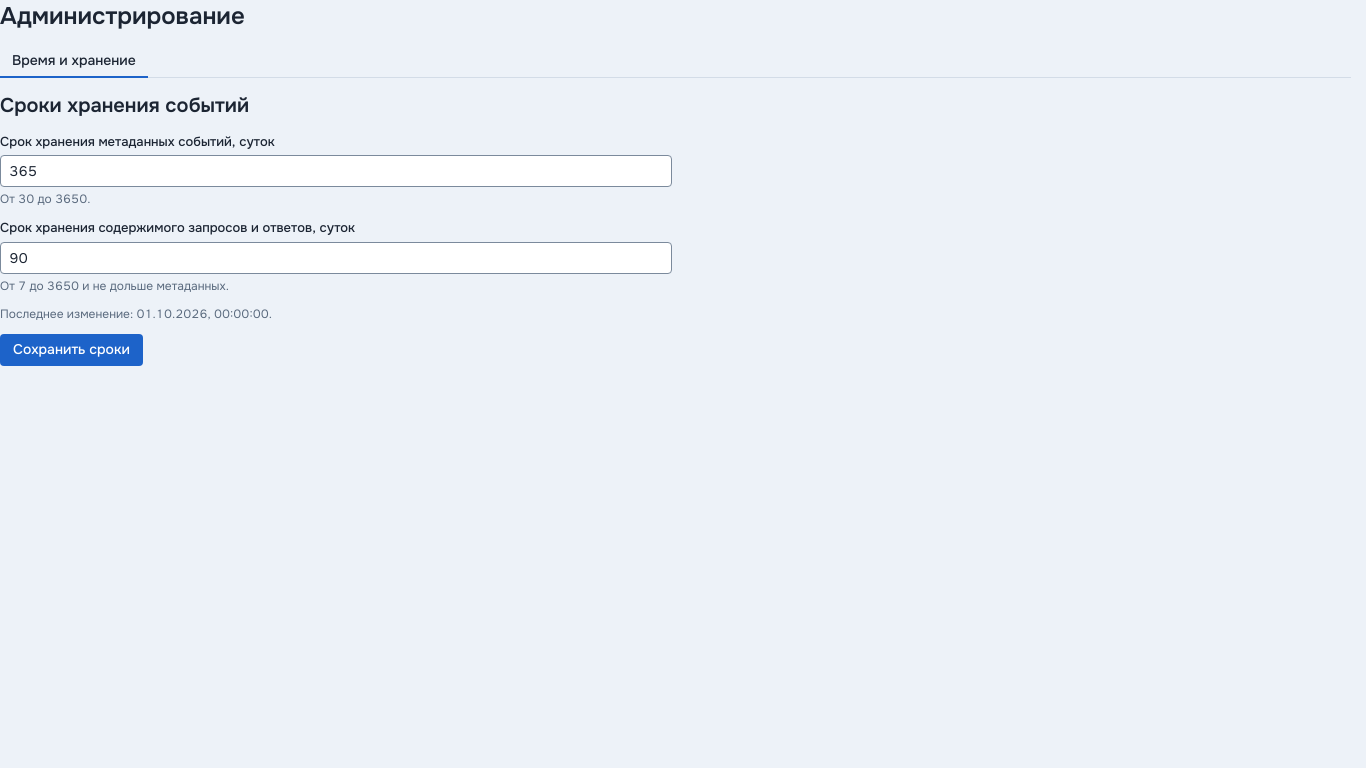
Test: сроки хранения › сокращение срока требует пароль, отказ сервера остаётся в диалоге (В13)
Replace the text in the field labelled "Срок хранения содержимого запросов и ответов, суток" with "30" at coordinates (336, 258), box left=0, top=242, right=672, bottom=274
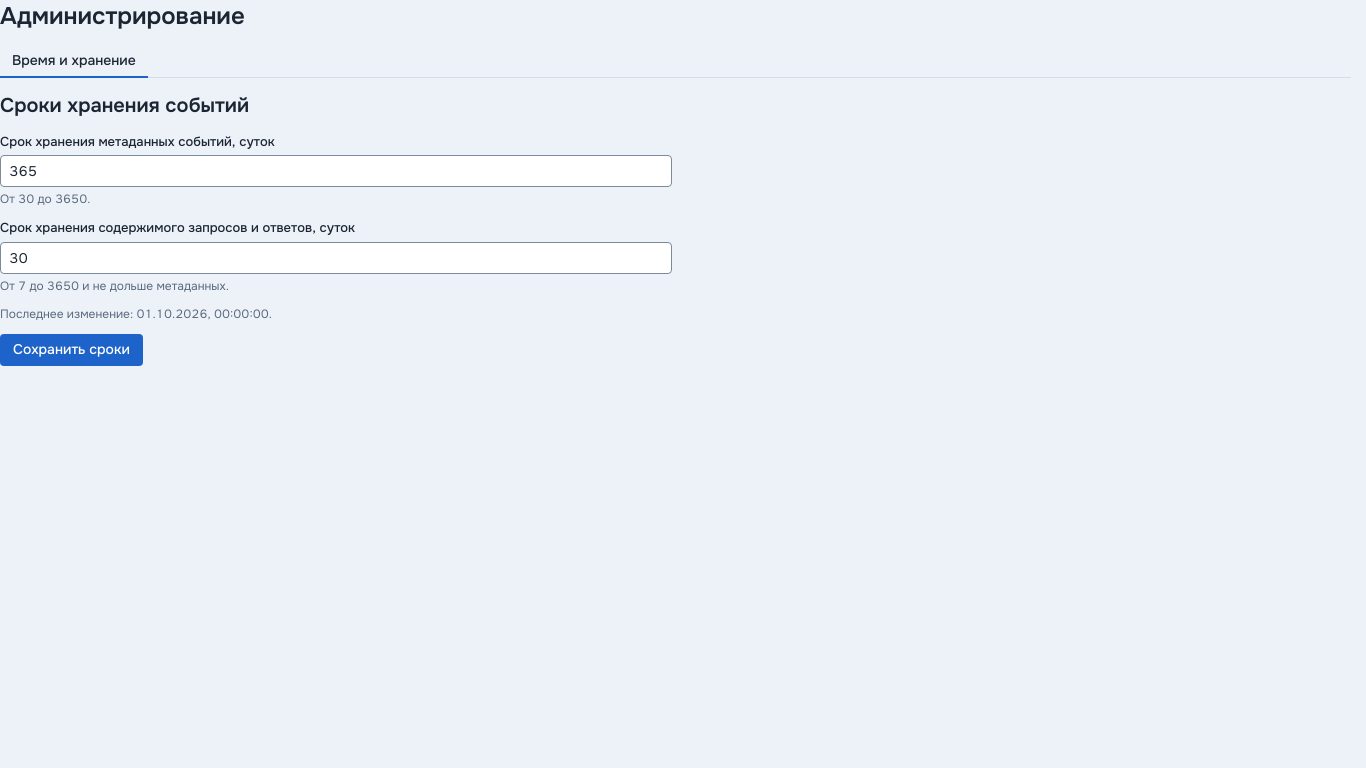
Click the button "Сохранить сроки" at coordinates (71, 350), box left=0, top=334, right=143, bottom=366
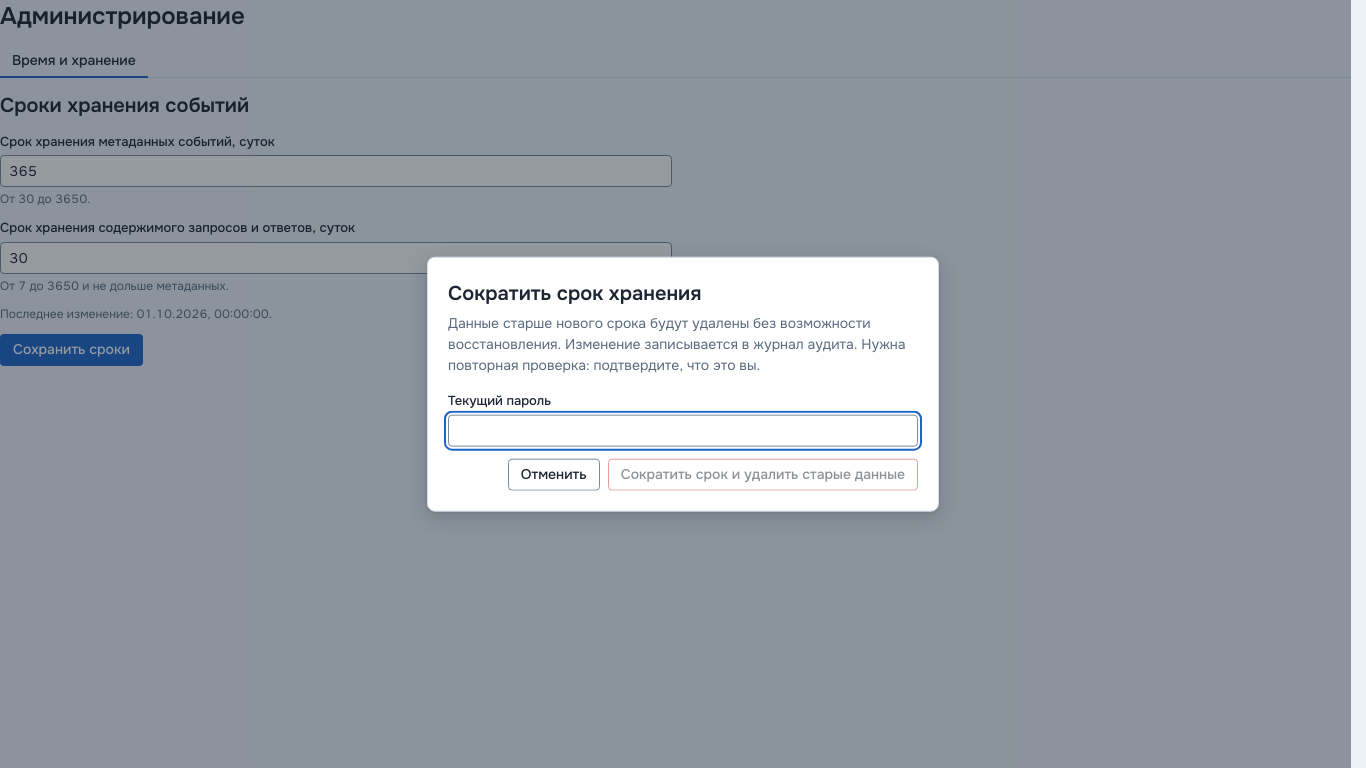
Result: the button "Сократить срок и удалить старые данные" is disabled at left=608, top=458, right=918, bottom=490
Type "неверный" into the password field labelled "Текущий пароль" at coordinates (683, 430), box left=448, top=414, right=918, bottom=446
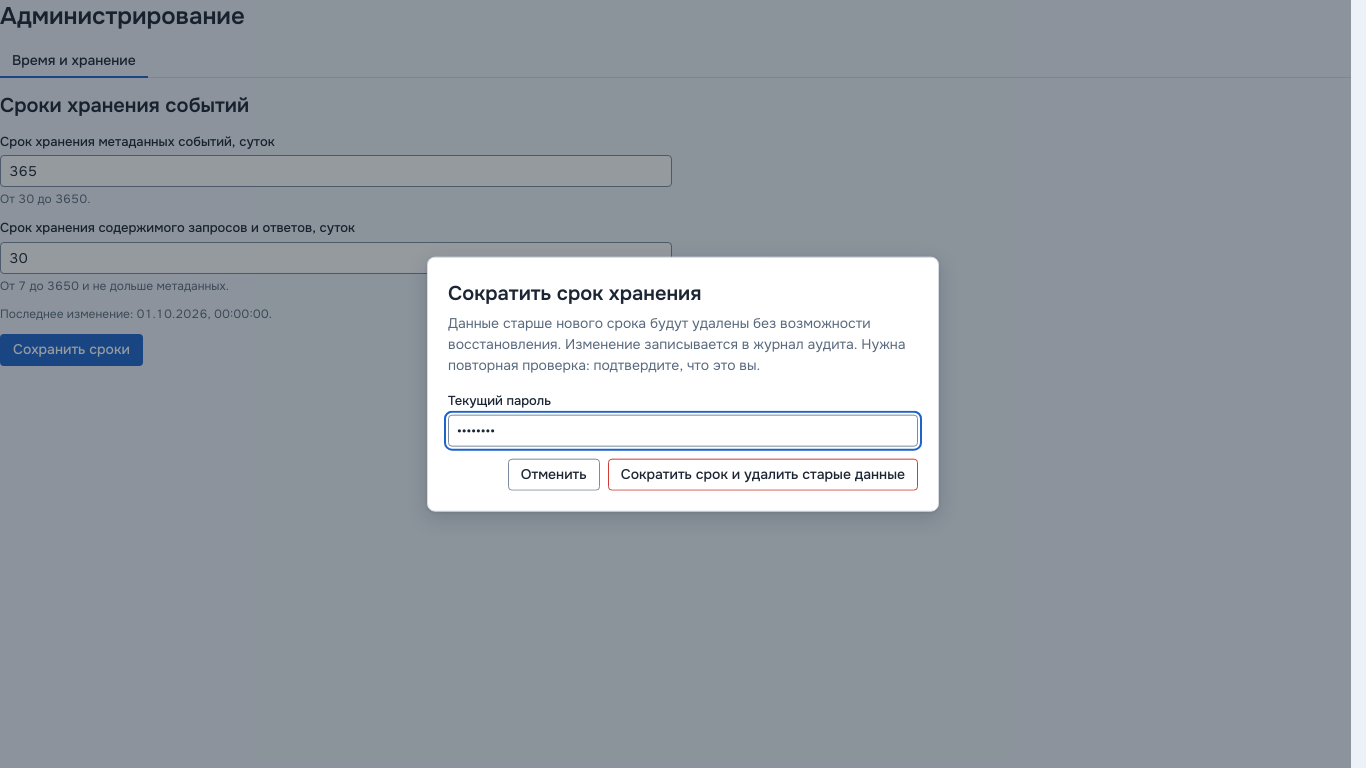
Click the button "Сократить срок и удалить старые данные" at coordinates (763, 474), box left=608, top=458, right=918, bottom=490
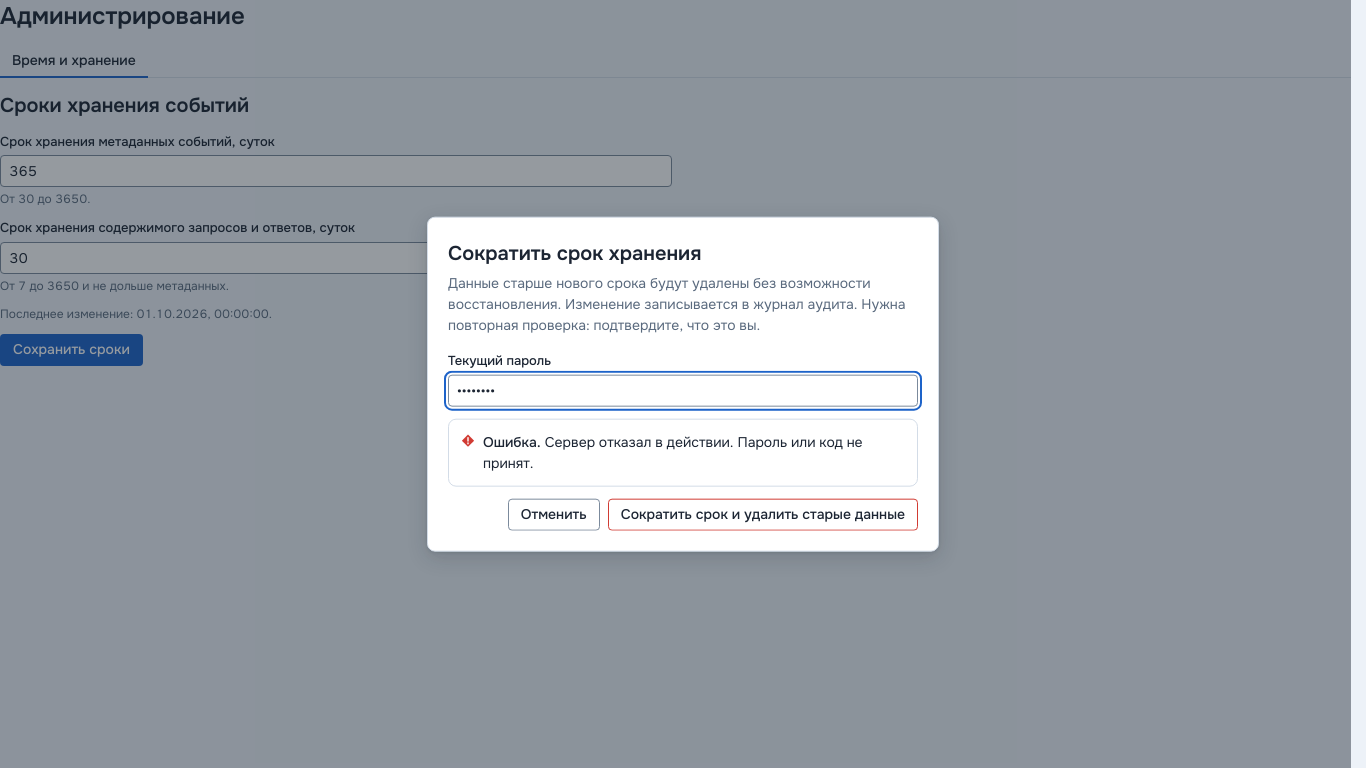
Result: the text "Ошибка. Сервер отказал в действии. Пароль или код не принят." is shown at left=483, top=431, right=905, bottom=473
Type "Correct-Horse-1" into the password field labelled "Текущий пароль" at coordinates (683, 390), box left=448, top=374, right=918, bottom=406
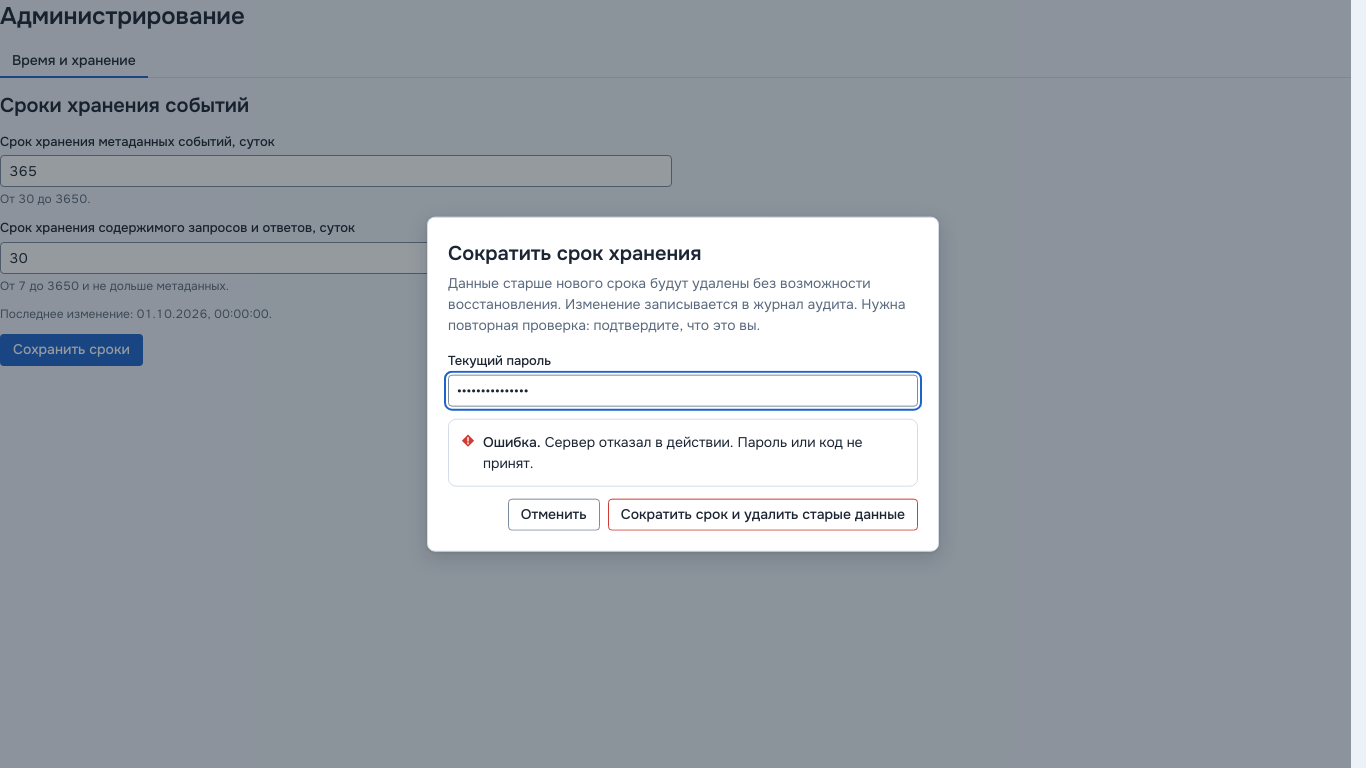
Click the button "Сократить срок и удалить старые данные" at coordinates (763, 514), box left=608, top=498, right=918, bottom=530
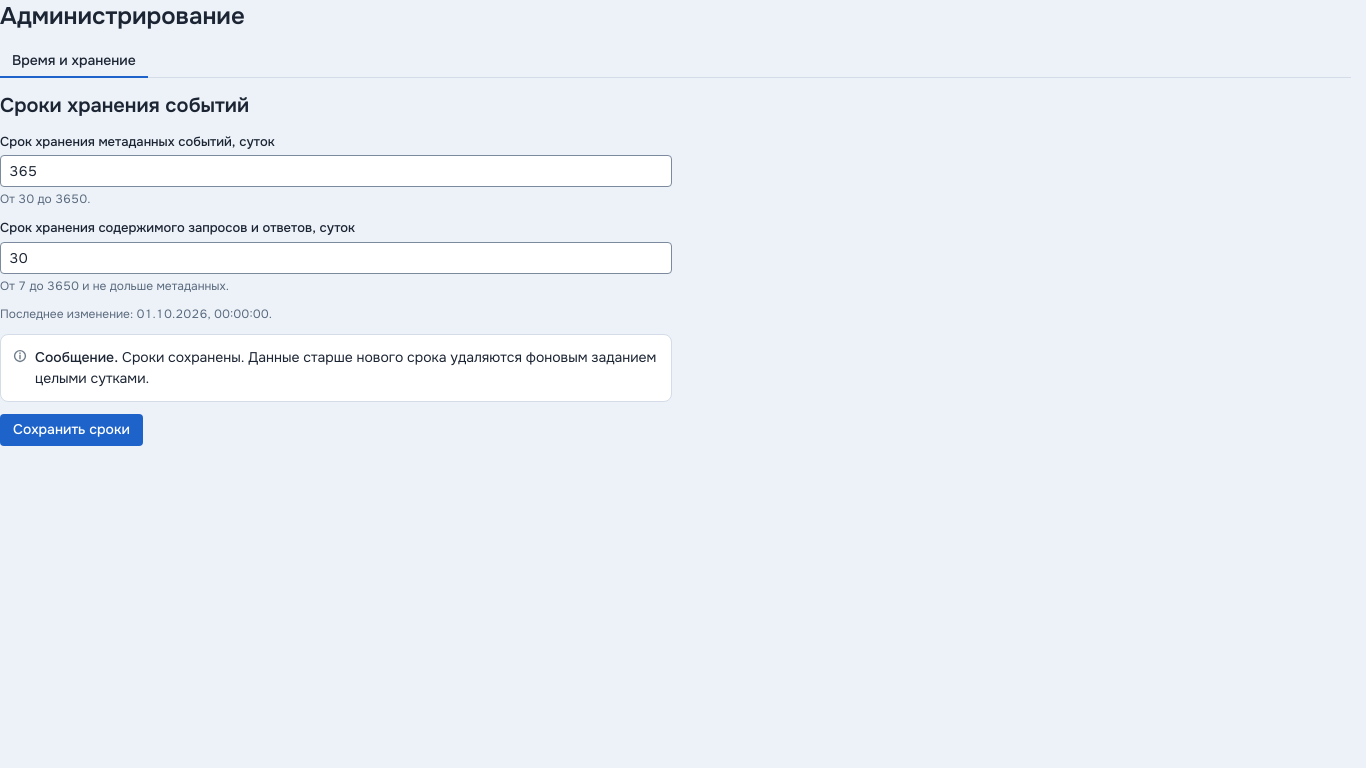
Result: the text "Сроки сохранены" is shown at left=35, top=348, right=656, bottom=387
Result: the dialog is gone
